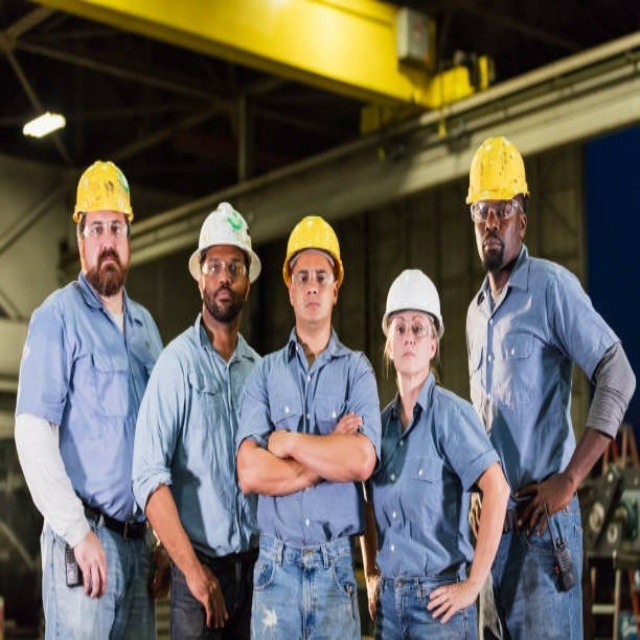Gafas: (472, 199, 526, 226), (201, 254, 250, 281), (78, 220, 128, 242), (387, 317, 436, 339), (291, 265, 339, 287)
Sin_guantes: (516, 471, 574, 534), (184, 566, 229, 627), (74, 529, 111, 599), (427, 579, 472, 623), (332, 405, 364, 436)
Sin_mascara: (93, 249, 123, 281), (297, 295, 326, 325), (208, 285, 238, 314), (393, 345, 422, 372), (478, 234, 505, 260)
